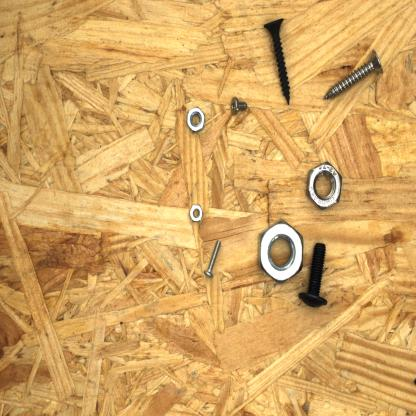screw: (320, 46, 387, 103), (260, 15, 294, 107), (296, 242, 332, 310), (200, 236, 223, 280), (225, 93, 252, 118)
